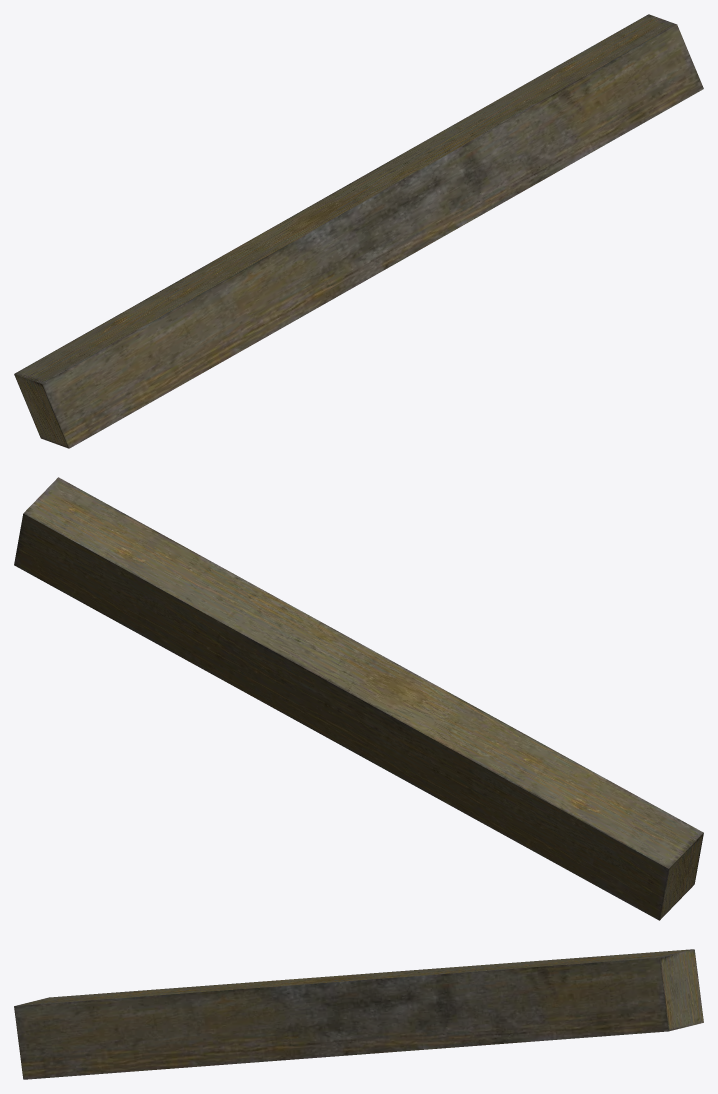
The model's file is BoxWoodA.glb.
The picture shows the model from 3 angles, top to bottom: view 1: azimuth 30°, elevation 25°; view 2: azimuth 150°, elevation 25°; view 3: azimuth 330°, elevation 25°; orthographic projection.
Visible parts, largest first — view 1: BoxWoodA; view 2: BoxWoodA; view 3: BoxWoodA.
Boxes of the visible parts, x1,y1,x2,y2 form: BoxWoodA: [14, 14, 703, 448]; BoxWoodA: [14, 477, 703, 920]; BoxWoodA: [14, 949, 703, 1079].
Bounding box in the file's own units: 1.26 × 0.5071 × 0.1476.
Materials: 1 (1 with a texture image).
